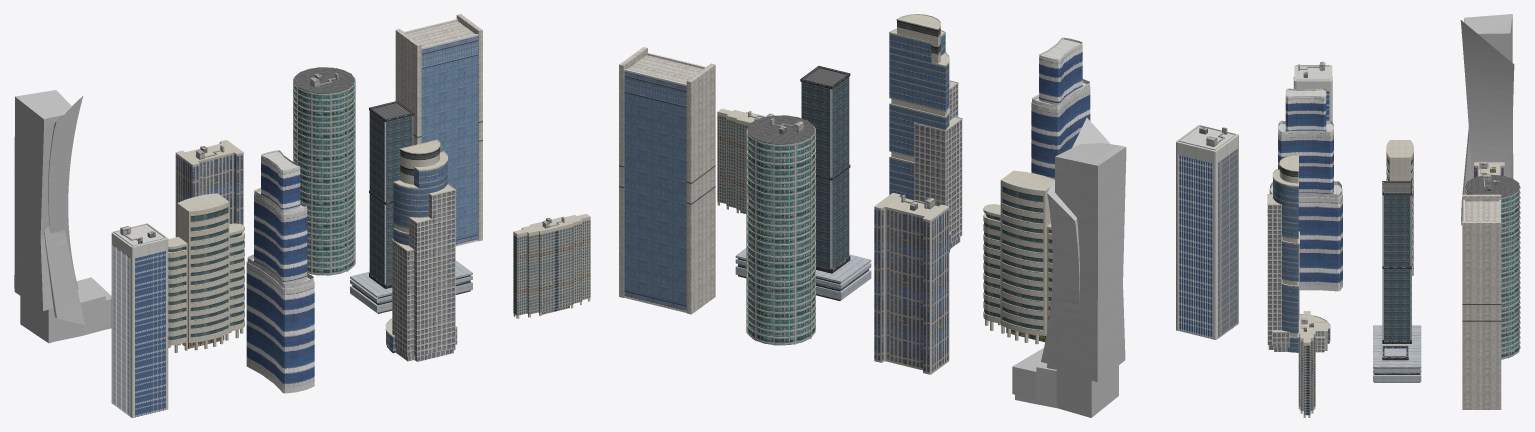
Rendered from skyscrapers.FBX.
The picture shows the model from 3 angles, left to right: view 1: azimuth 30°, elevation 25°; view 2: azimuth 150°, elevation 25°; view 3: azimuth 270°, elevation 25°; orthographic projection. The views are drawn at different scales.
Visible parts, largest first — view 1: zlota, H2, h1, h6_1 (×2), H1, h4_1, h7_2, h9_1, h7_1, h9_3, H3_1, Plane48 (+6 smaller); view 2: zlota, H1, h6_1 (×2), H2, h9_1, h7_2, Plane48, h4_1, h7_1, h9_3, H3_1, h1 (+5 smaller); view 3: Plane48, h1, zlota, H2, H3_1, H3_2, h9_1, h9_3, h2, h6_1, h7_2, h4_2 (+4 smaller).
Boxes of the visible parts, bbox=[...] form: zlota: bbox=[14, 90, 111, 343]; H2: bbox=[385, 139, 457, 361]; h1: bbox=[246, 150, 314, 388]; h6_1 (×2): bbox=[175, 142, 590, 315]; H1: bbox=[404, 19, 482, 246]; h4_1: bbox=[168, 202, 244, 345]; h7_2: bbox=[111, 223, 168, 417]; h9_1: bbox=[293, 80, 354, 275]; h7_1: bbox=[113, 245, 165, 417]; h9_3: bbox=[293, 67, 355, 275]; H3_1: bbox=[352, 111, 470, 305]; Plane48: bbox=[395, 14, 482, 241]; zlota: bbox=[1012, 117, 1126, 417]; H1: bbox=[619, 52, 715, 312]; h6_1 (×2): bbox=[717, 115, 949, 374]; H2: bbox=[889, 14, 962, 252]; h9_1: bbox=[747, 129, 814, 345]; h7_2: bbox=[1176, 125, 1238, 339]; Plane48: bbox=[619, 47, 715, 314]; h4_1: bbox=[983, 181, 1052, 335]; h7_1: bbox=[1179, 149, 1236, 338]; h9_3: bbox=[746, 115, 815, 345]; H3_1: bbox=[738, 77, 868, 291]; h1: bbox=[1031, 37, 1090, 179]; Plane48: bbox=[1462, 194, 1501, 409]; h1: bbox=[1270, 88, 1342, 286]; zlota: bbox=[1460, 14, 1514, 225]; H2: bbox=[1267, 154, 1330, 352]; H3_1: bbox=[1374, 195, 1420, 374]; H3_2: bbox=[1373, 181, 1421, 382]; h9_1: bbox=[1465, 187, 1519, 359]; h9_3: bbox=[1464, 176, 1520, 358]; h2: bbox=[1269, 90, 1342, 291]; h6_1: bbox=[1298, 337, 1315, 415]; h7_2: bbox=[1293, 65, 1332, 121]; h4_2: bbox=[1386, 140, 1413, 275].
Bounding box in the file's own units: 15700 × 7886 × 8337.
